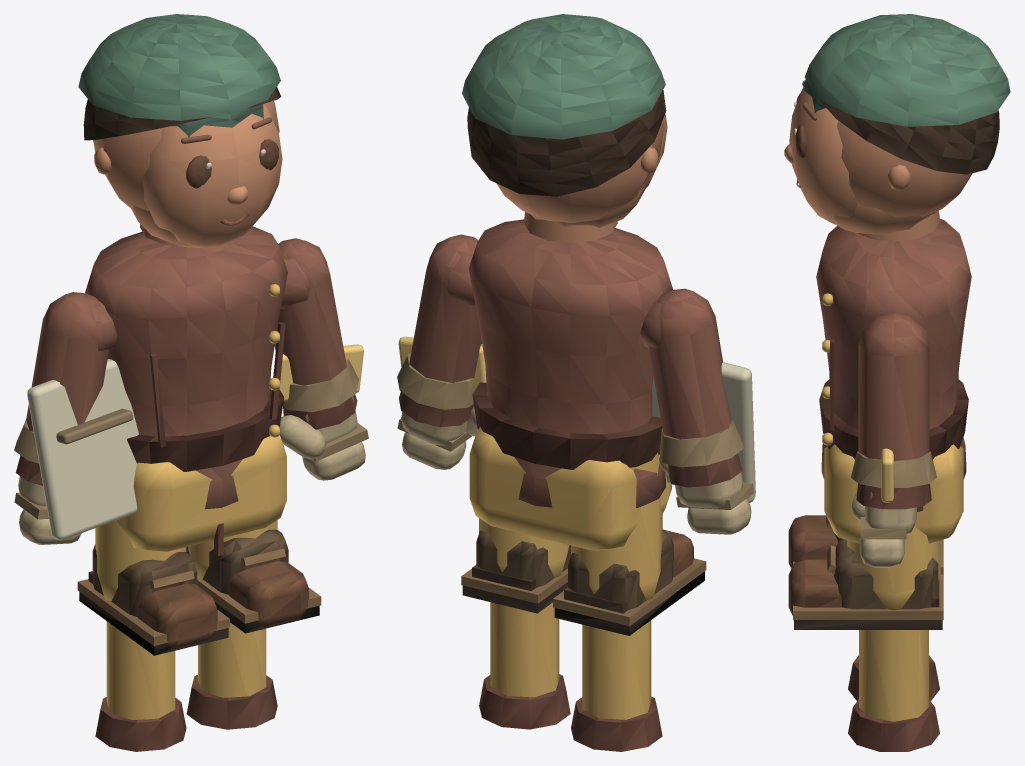
File: choi-minseo.glb
3 views of the same model, side by side, from view 1: azimuth 30°, elevation 25°; view 2: azimuth 150°, elevation 25°; view 3: azimuth 270°, elevation 25° (orthographic).
Parts seen in each view (by area): view 1: coat, legs, figureDetail, hat, marketLedger, trousers, armRightMesh, armLeftMesh, handRightMesh, handLeftMesh, marketLedgerBand, premiumPriceTag; view 2: coat, legs, hat, figureDetail, trousers, armLeftMesh, armRightMesh, handLeftMesh, handRightMesh, marketLedger, neck, premiumPriceTag; view 3: legs, coat, figureDetail, hat, armRightMesh, trousers, handRightMesh, neck, premiumPriceTag.
Boxes of the visible parts, <box> form: coat: <box>85,226,287,509</box>; legs: <box>77,520,321,751</box>; figureDetail: <box>83,87,282,248</box>; hat: <box>78,14,280,137</box>; marketLedger: <box>27,359,138,540</box>; trousers: <box>117,435,286,555</box>; armRightMesh: <box>274,238,357,429</box>; armLeftMesh: <box>16,292,117,485</box>; handRightMesh: <box>279,359,368,480</box>; handLeftMesh: <box>14,420,81,544</box>; marketLedgerBand: <box>56,408,133,444</box>; premiumPriceTag: <box>279,344,363,401</box>; coat: <box>468,219,672,507</box>; legs: <box>461,452,706,751</box>; hat: <box>462,14,665,139</box>; figureDetail: <box>467,90,667,227</box>; trousers: <box>469,427,671,550</box>; armLeftMesh: <box>640,288,742,487</box>; armRightMesh: <box>399,234,481,427</box>; handLeftMesh: <box>659,420,754,534</box>; handRightMesh: <box>397,353,478,469</box>; marketLedger: <box>652,362,755,502</box>; neck: <box>523,212,617,243</box>; premiumPriceTag: <box>398,336,486,390</box>; legs: <box>788,515,943,751</box>; coat: <box>816,218,971,511</box>; figureDetail: <box>784,79,999,234</box>; hat: <box>803,14,1010,126</box>; armRightMesh: <box>856,313,931,509</box>; trousers: <box>824,444,963,543</box>; handRightMesh: <box>851,451,936,567</box>; neck: <box>857,210,940,241</box>; premiumPriceTag: <box>881,448,893,502</box>.
Size of the model in its own units: 1.07 by 2.11 by 0.6178.
